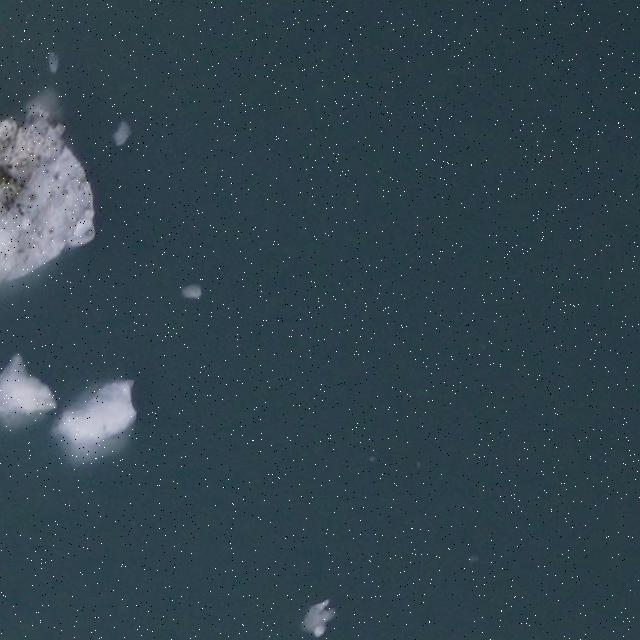seal: (1, 165, 11, 181)
